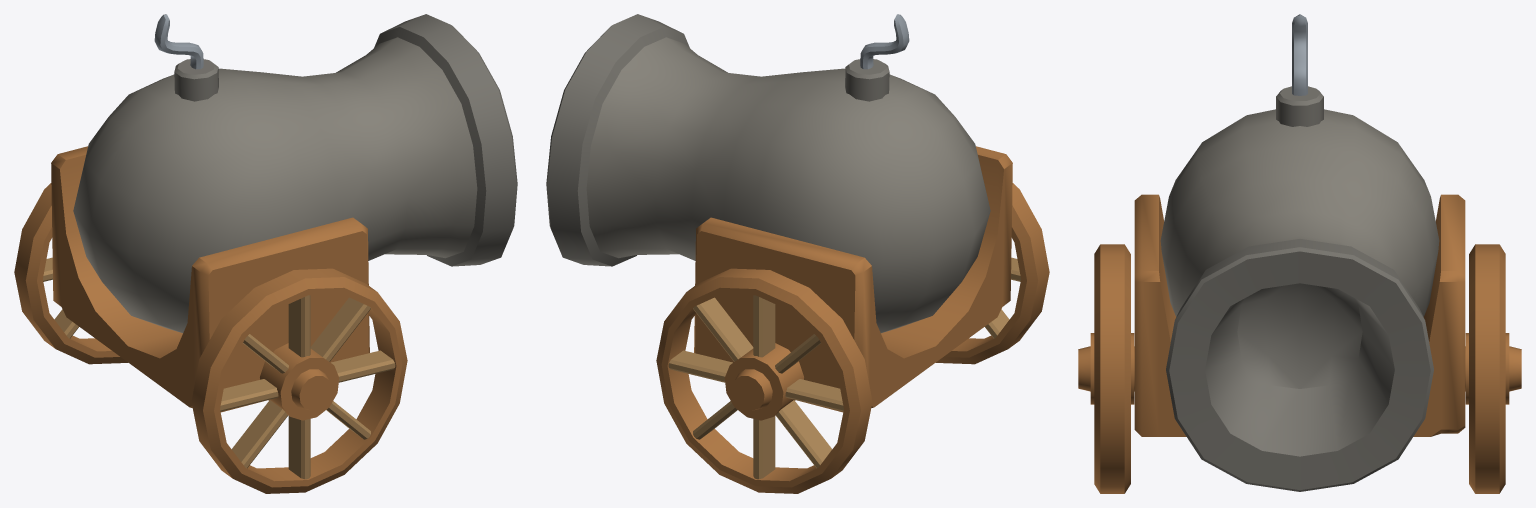
Rendered from cc0-cannon-lod0.glb.
3 renders of one model, left to right at view 1: azimuth 30°, elevation 25°; view 2: azimuth 150°, elevation 25°; view 3: azimuth 270°, elevation 25°, orthographic. The views are drawn at different scales.
Parts seen in each view (by area): view 1: part_0; view 2: part_0; view 3: part_0.
Part boxes in pixels (<box>): part_0: <box>14,14,517,493</box>; part_0: <box>546,14,1049,493</box>; part_0: <box>1078,14,1521,493</box>.
Size of the model in its own units: 3.37 by 3.67 by 3.32.
